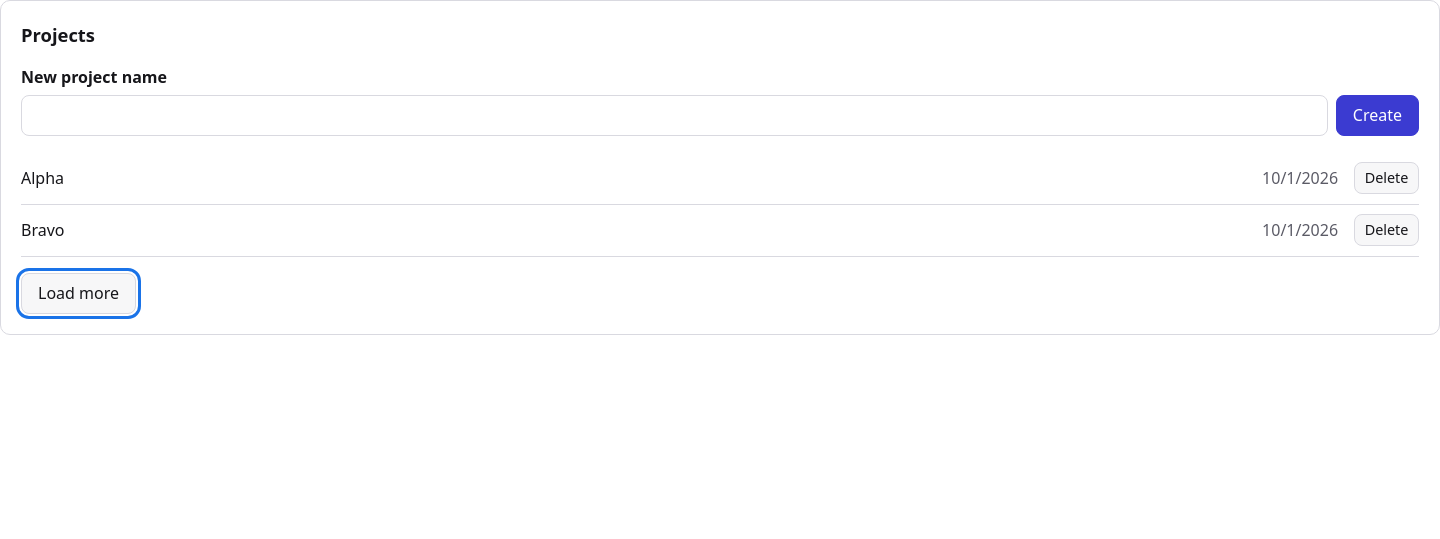
Test case: projects panel focus while a request runs (FE-09) › leaves focus where the user moved it while a failing Load more ran
Expected: the text "Alpha" is shown, [21,166,64,188]
Press Enter
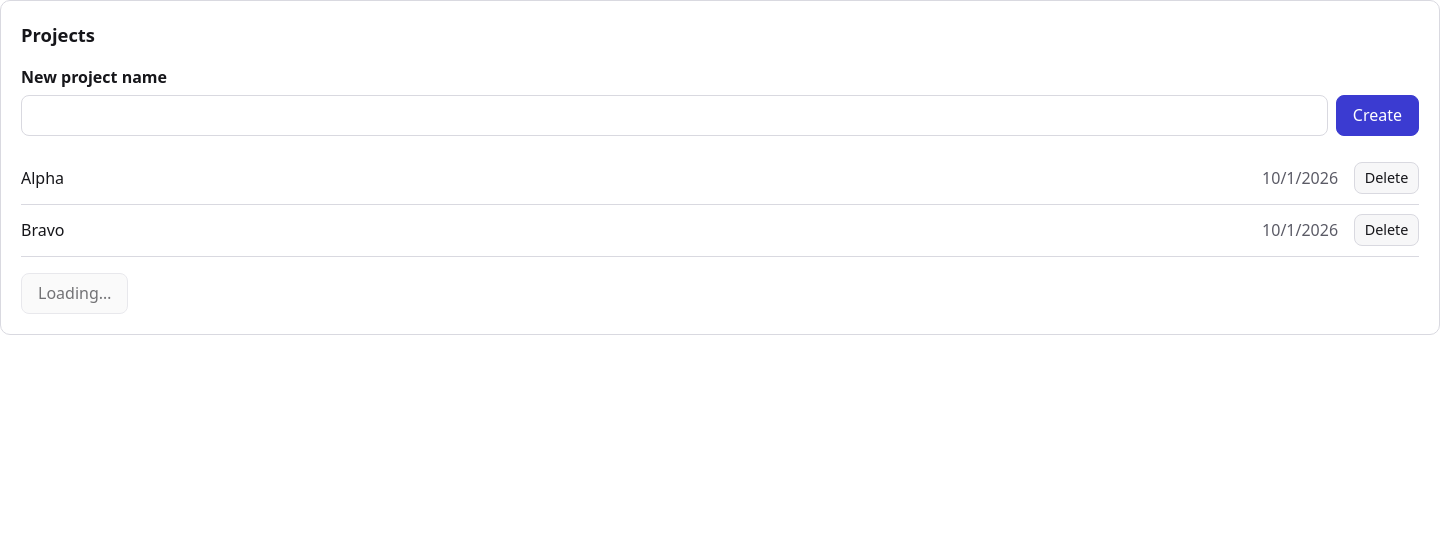
Click the field labelled "New project name": (674, 116) [21,95,1328,136]
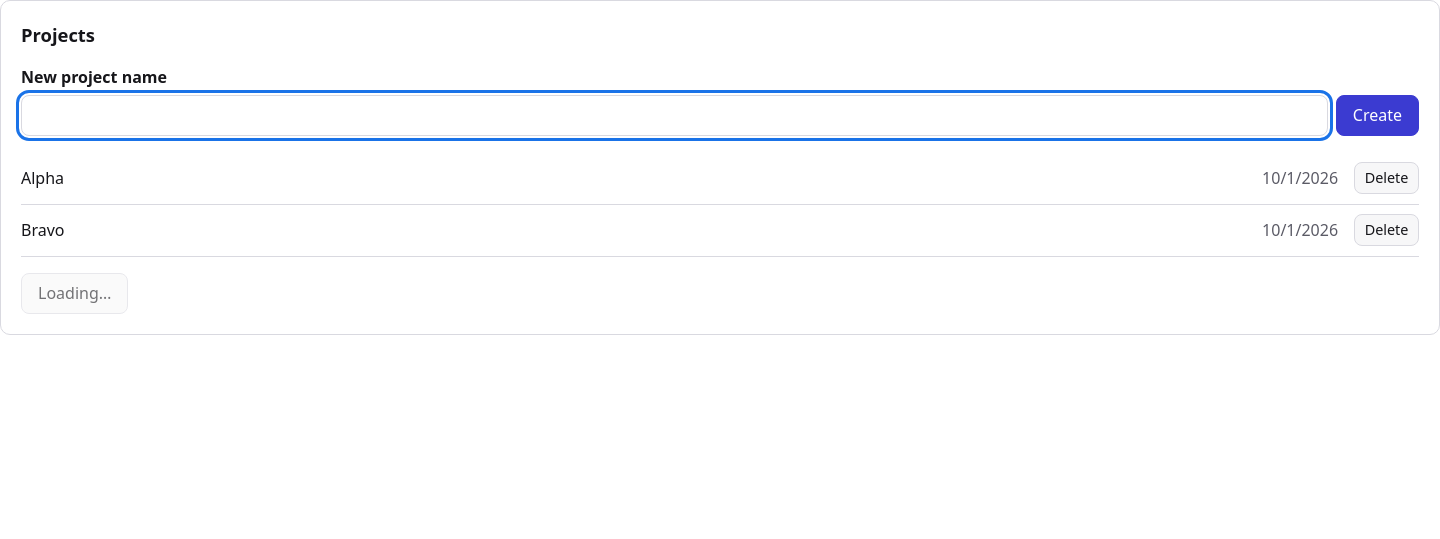
Type keys "Next pro"
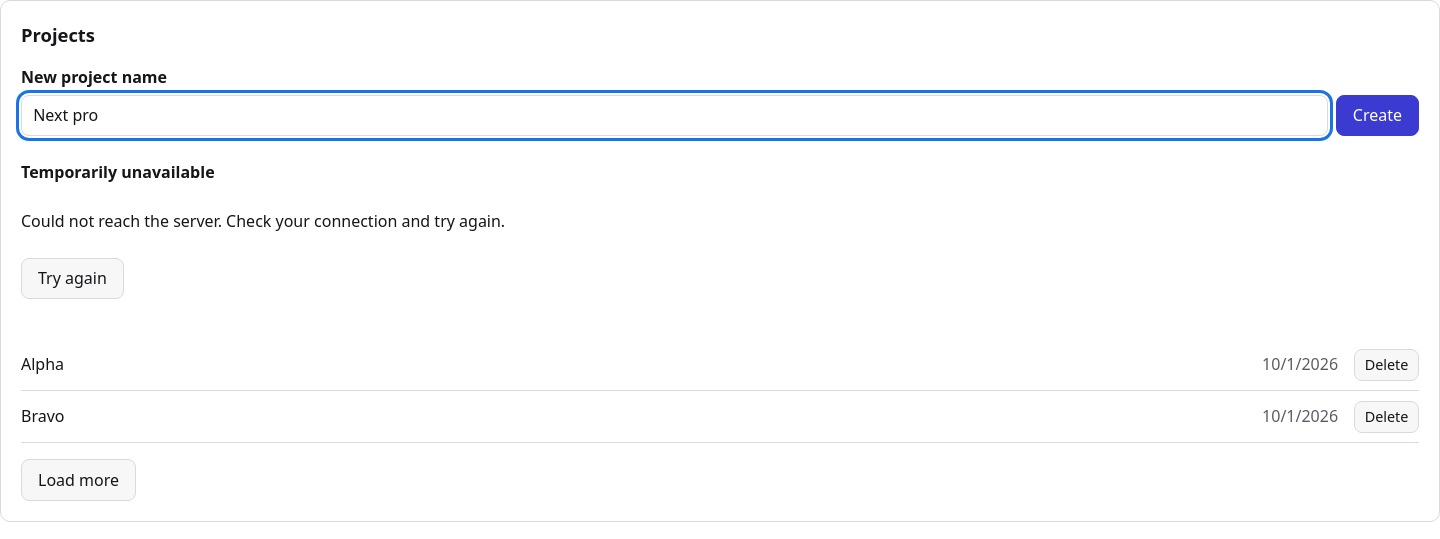
Expected: the message shows "Temporarily unavailable", [21,161,215,183]
